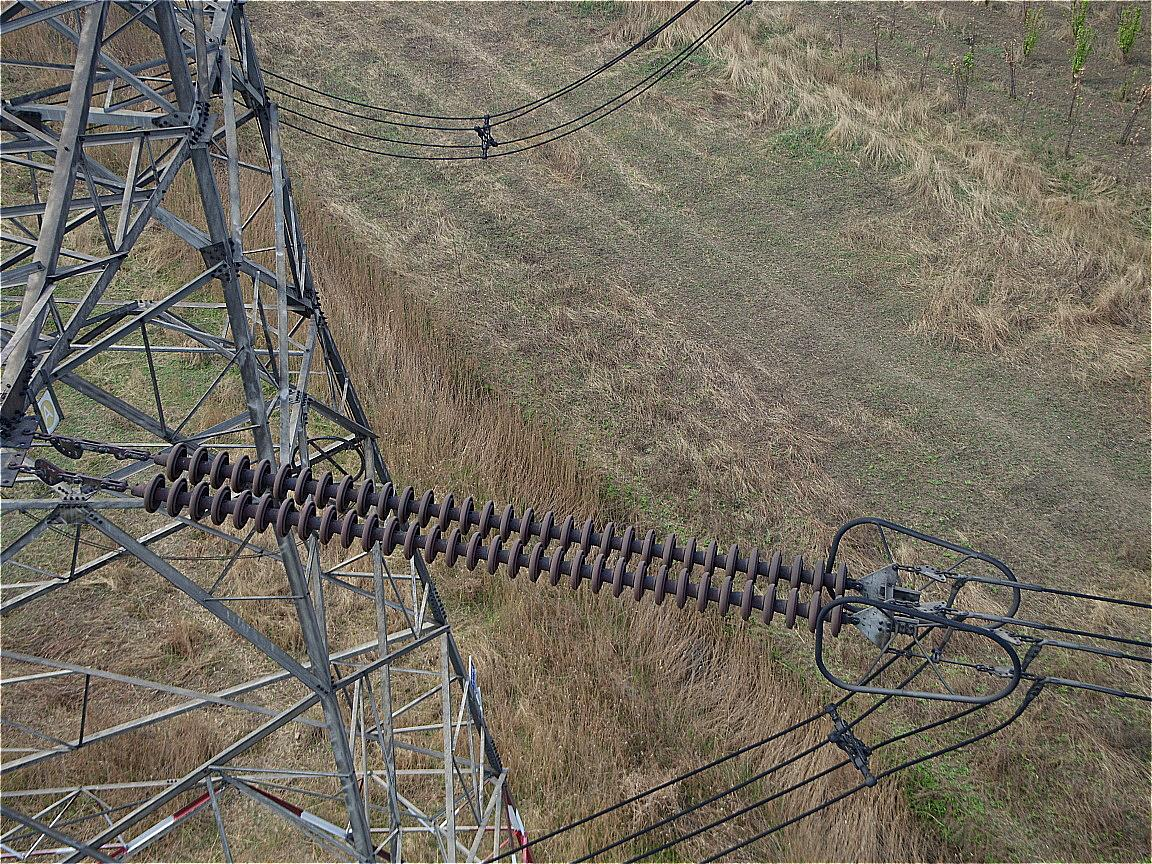insultor1: (147, 443, 849, 636)
